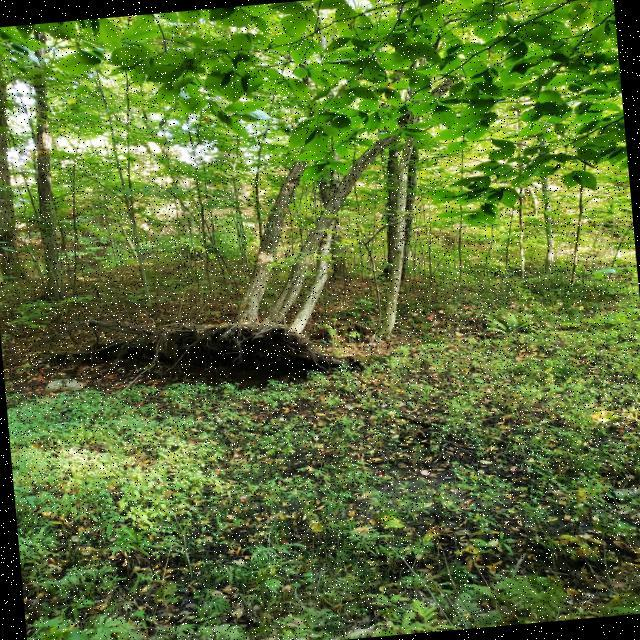fallen_object: (49, 162, 444, 410)
